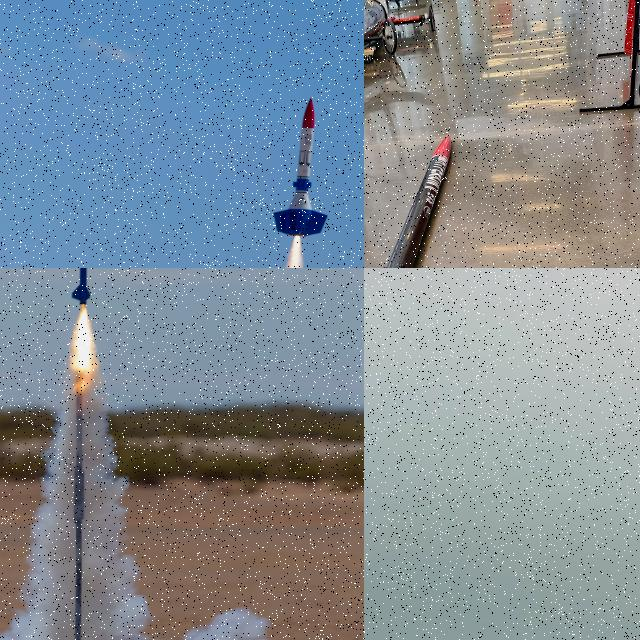Rocket: (386, 134, 451, 268), (272, 97, 331, 238), (71, 268, 92, 306)
